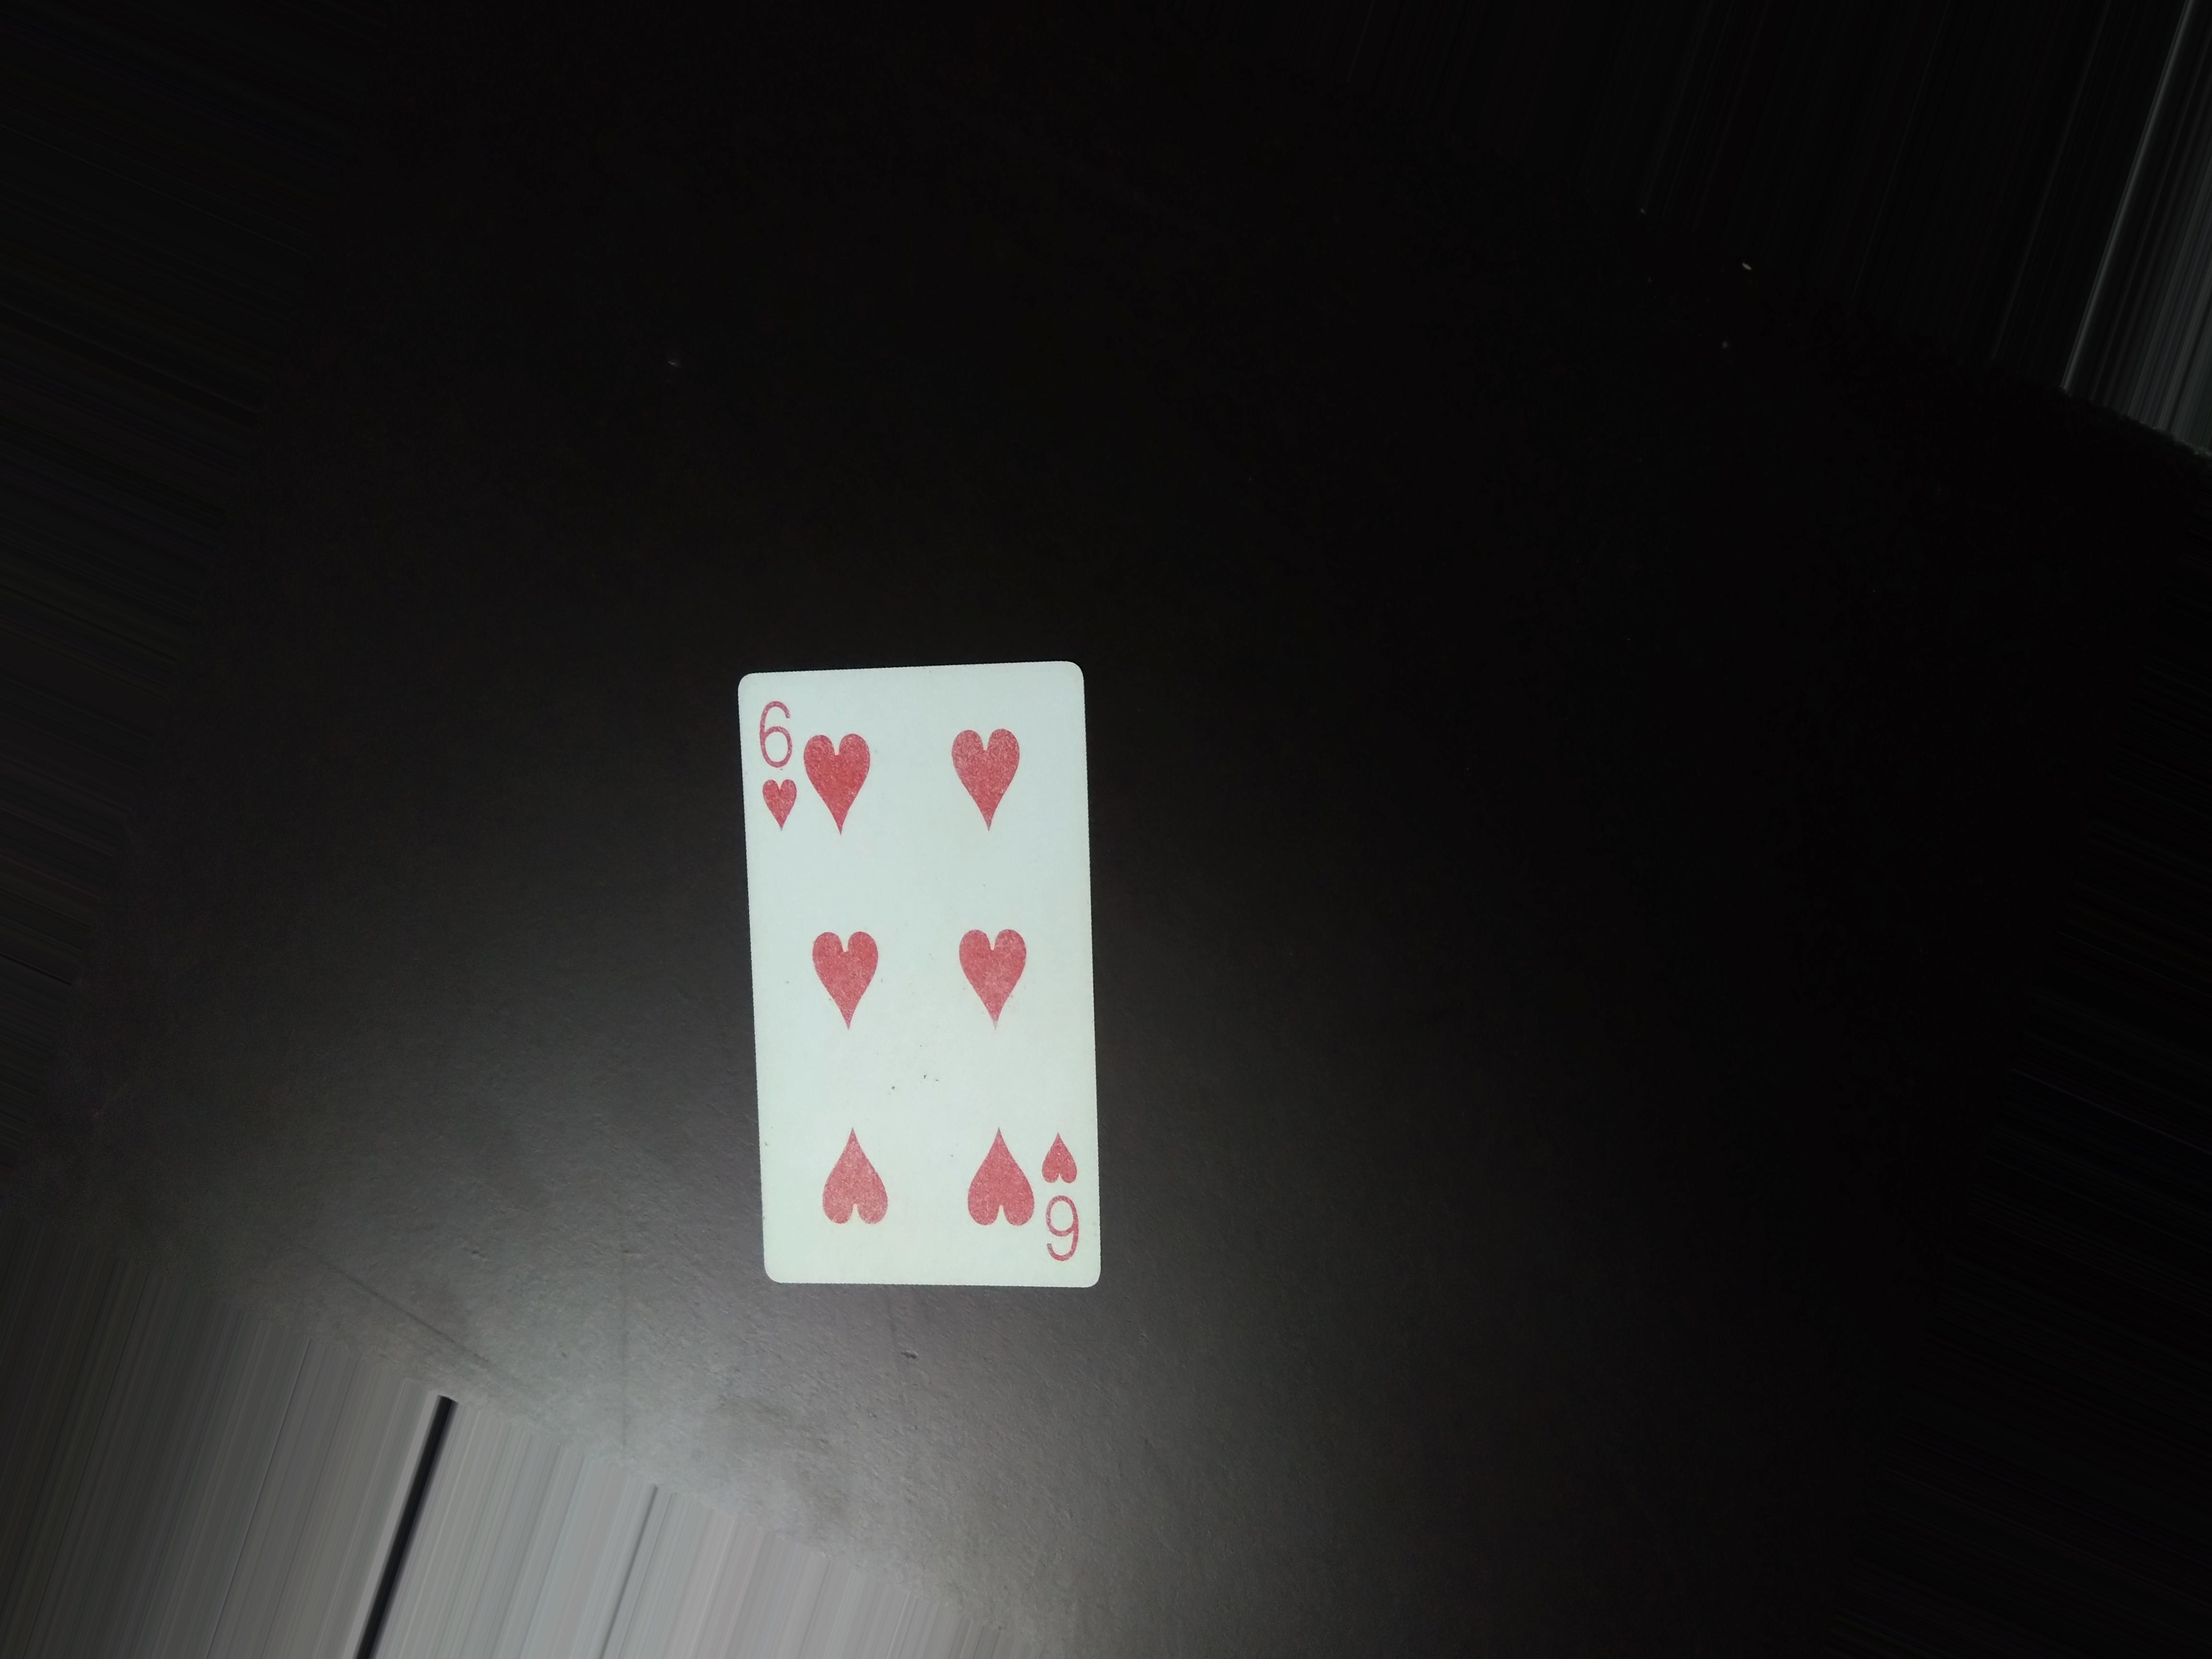6H: (752, 683, 805, 838)
